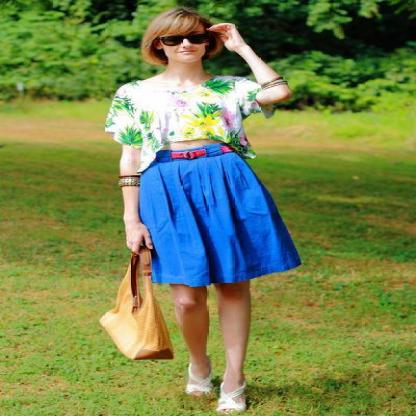bag: (100, 241, 172, 361)
shirt: (104, 75, 278, 157)
shoe: (185, 374, 243, 414)
skirt: (138, 144, 300, 286)
sunglass: (152, 25, 224, 53)
